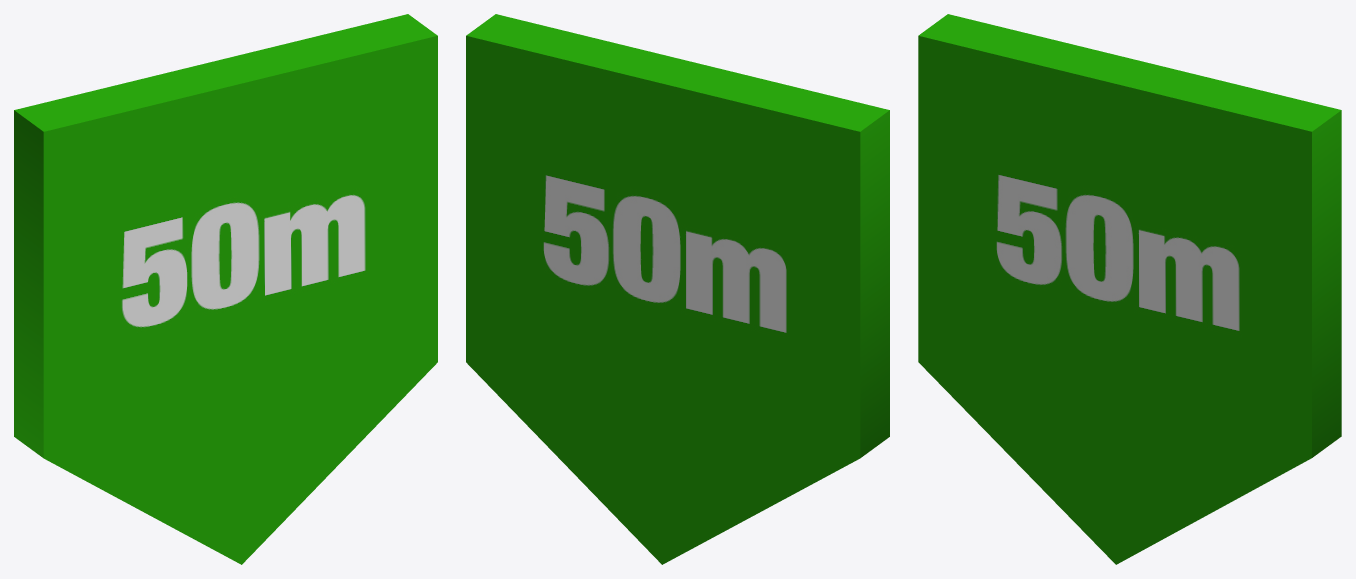
Rendered from 50m marker.fbx.
3 renders of one model, left to right at view 1: azimuth 30°, elevation 25°; view 2: azimuth 150°, elevation 25°; view 3: azimuth 330°, elevation 25°, orthographic.
Parts seen in each view (by area): view 1: pCube1; view 2: pCube1; view 3: pCube1.
Boxes of the visible parts, box(x1,y1,x2,y2) form: pCube1: box(14, 14, 437, 564); pCube1: box(466, 14, 889, 564); pCube1: box(918, 14, 1341, 564).
Bounding box in the file's own units: 3.96 × 4.62 × 0.5166.
Materials: 1 (1 with a texture image).
